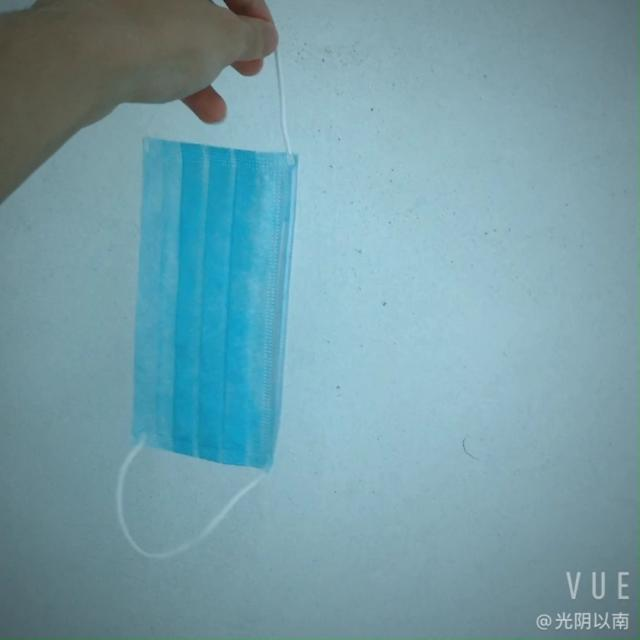non-organic waste: (124, 134, 308, 467)
